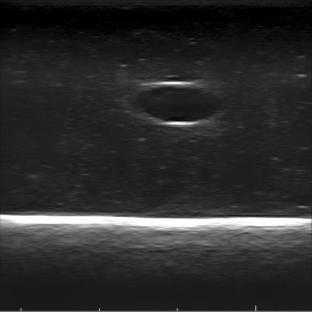vessel: (129, 81, 224, 128)
